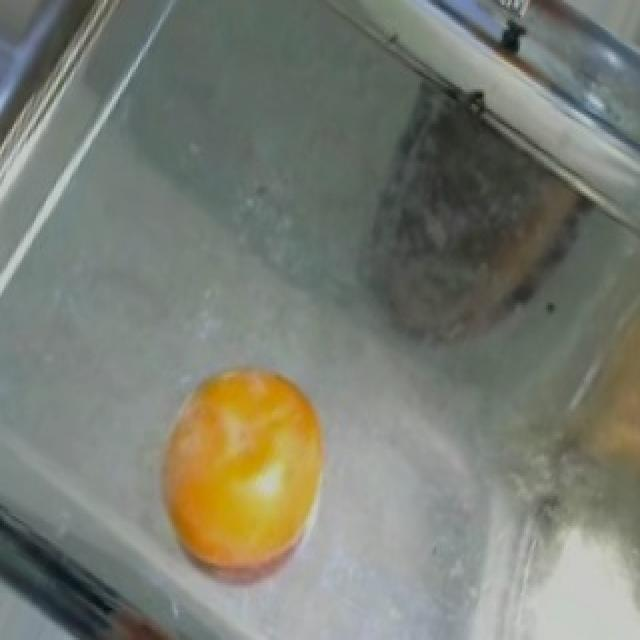Fruit: (150, 348, 340, 606)
